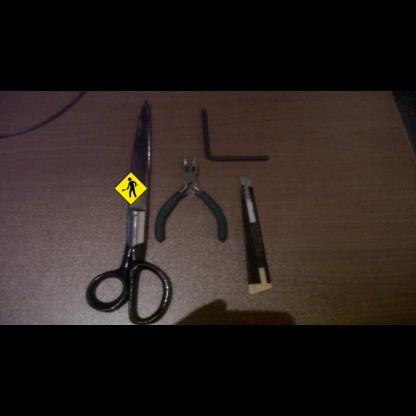A-24: (114, 171, 148, 206)
